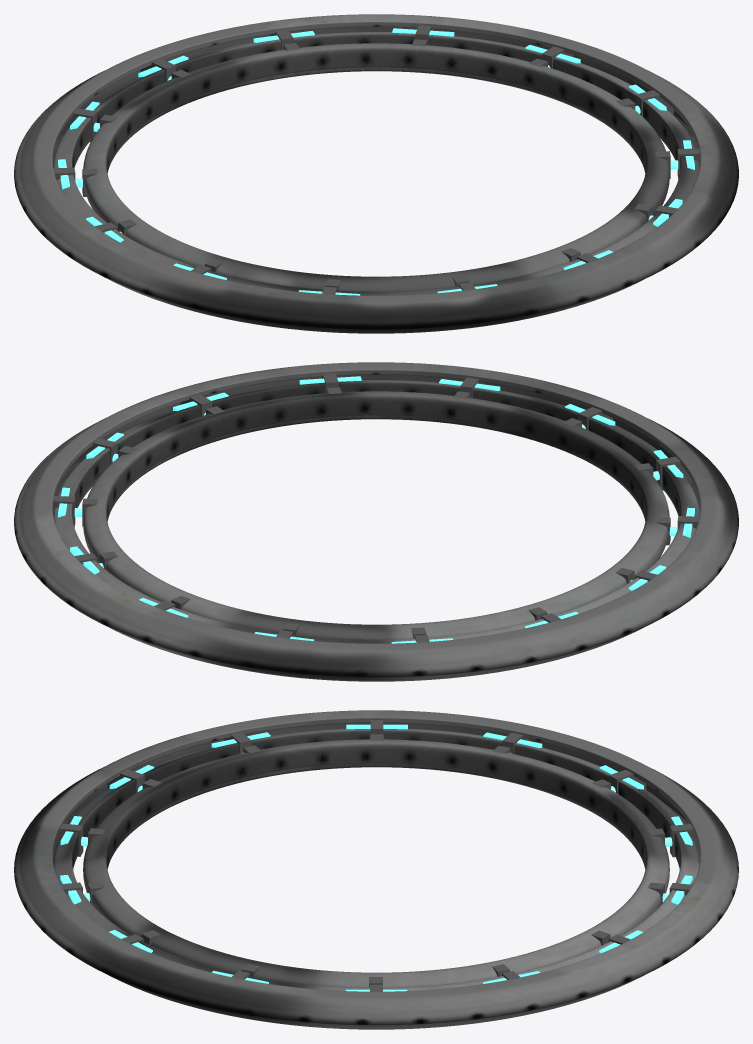
File: portal.glb
The picture shows the model from 3 angles, top to bottom: view 1: azimuth 30°, elevation 25°; view 2: azimuth 150°, elevation 25°; view 3: azimuth 270°, elevation 25°; orthographic projection.
Visible parts, largest first — view 1: outer_portal.036, outer_portal.037, outer_portal.001, Cube, Cube.002, Cube.001; view 2: outer_portal.036, outer_portal.037, outer_portal.001, Cube, Cube.002, Cube.001; view 3: outer_portal.036, outer_portal.037, outer_portal.001, Cube, Cube.002, Cube.001.
Part boxes in pixels (bbox=[...]): outer_portal.036: bbox=[14, 14, 738, 333]; outer_portal.037: bbox=[83, 43, 669, 291]; outer_portal.001: bbox=[53, 32, 699, 295]; Cube: bbox=[53, 25, 700, 294]; Cube.002: bbox=[58, 28, 694, 295]; Cube.001: bbox=[82, 39, 670, 290]; outer_portal.036: bbox=[14, 362, 738, 681]; outer_portal.037: bbox=[83, 391, 669, 639]; outer_portal.001: bbox=[53, 380, 699, 643]; Cube: bbox=[52, 373, 699, 642]; Cube.002: bbox=[58, 376, 694, 643]; Cube.001: bbox=[82, 387, 670, 638]; outer_portal.036: bbox=[14, 710, 738, 1029]; outer_portal.037: bbox=[83, 739, 669, 987]; outer_portal.001: bbox=[53, 728, 699, 990]; Cube: bbox=[53, 720, 699, 991]; Cube.002: bbox=[60, 724, 692, 991]; Cube.001: bbox=[87, 734, 664, 987].
Bounding box in the file's own units: 2.04 × 0.097 × 2.04.
Materials: 6 (2 with a texture image).
